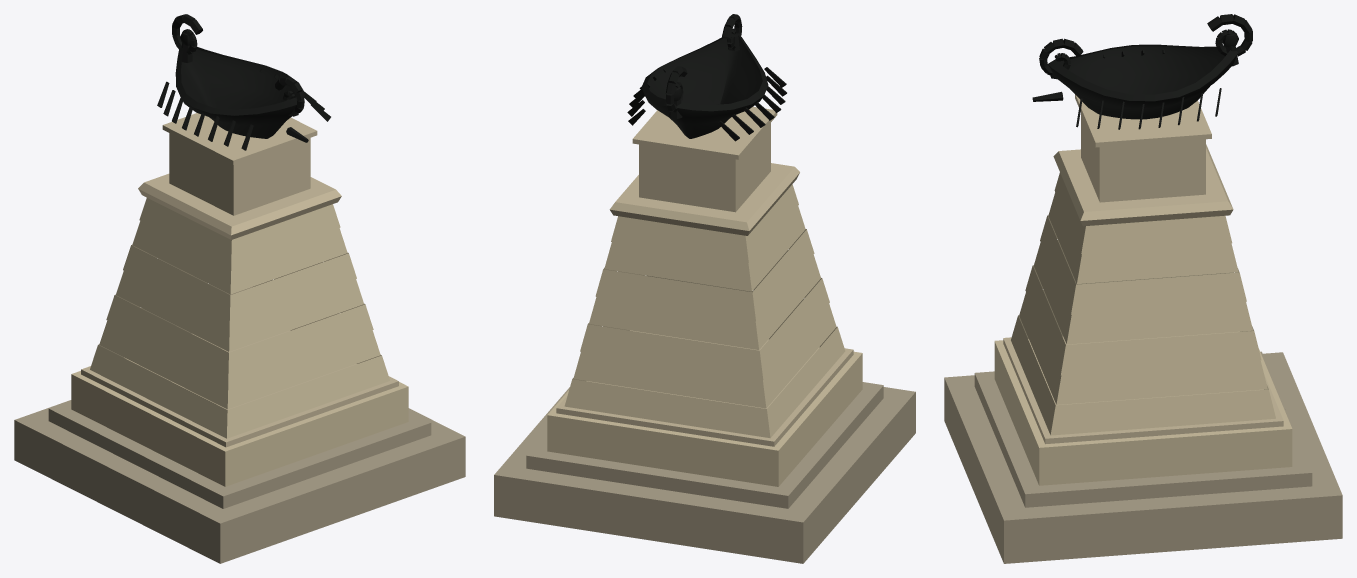
Rendered from kazarsky.lod.glb.
3 views of the same model, side by side, from view 1: azimuth 30°, elevation 25°; view 2: azimuth 150°, elevation 25°; view 3: azimuth 270°, elevation 25° (orthographic). The views are drawn at different scales.
Parts seen in each view (by area): view 1: kazarsky_wall, kazarsky_stone, kazarsky_wall2, kazarsky_wall3_s; view 2: kazarsky_wall, kazarsky_stone, kazarsky_wall2, kazarsky_wall3_s; view 3: kazarsky_wall, kazarsky_stone, kazarsky_wall2, kazarsky_wall3_s.
Part boxes in pixels (x1,y1,x2,y2): kazarsky_wall: [71, 198, 408, 486]; kazarsky_stone: [14, 400, 465, 563]; kazarsky_wall2: [81, 113, 398, 447]; kazarsky_wall3_s: [157, 14, 330, 150]; kazarsky_wall: [547, 184, 862, 486]; kazarsky_stone: [494, 382, 915, 563]; kazarsky_wall2: [556, 106, 853, 446]; kazarsky_wall3_s: [627, 14, 786, 141]; kazarsky_wall: [994, 173, 1292, 485]; kazarsky_stone: [944, 351, 1342, 563]; kazarsky_wall2: [1003, 94, 1283, 444]; kazarsky_wall3_s: [1032, 14, 1252, 129].
Bounding box in the file's own units: 5.33 × 6.76 × 5.33.
